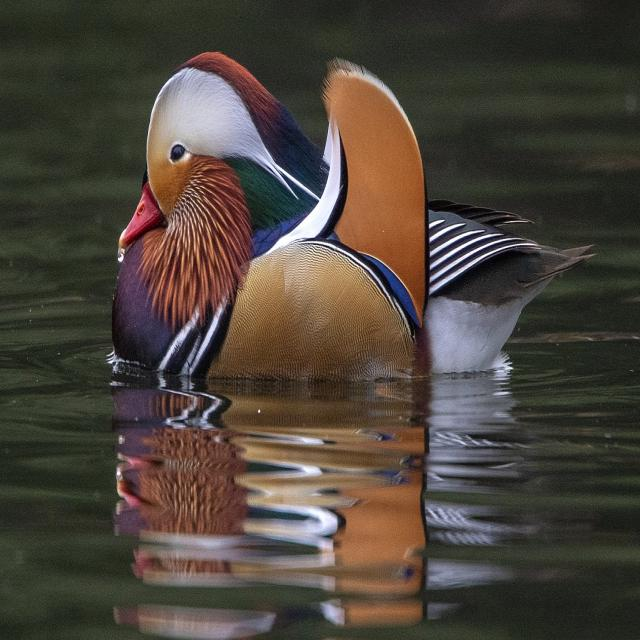Duck: (101, 36, 604, 397)
